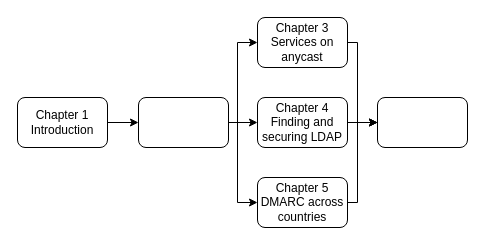
This 485x245 diagram has some shape labels left out. The shapes that lost their labels are listed below. From the top down, each one's centre as x and y in pixels, then its label:
(183,122): Chapter 2 Background
(422,122): Chapter 6 Conclusions & Reflections
